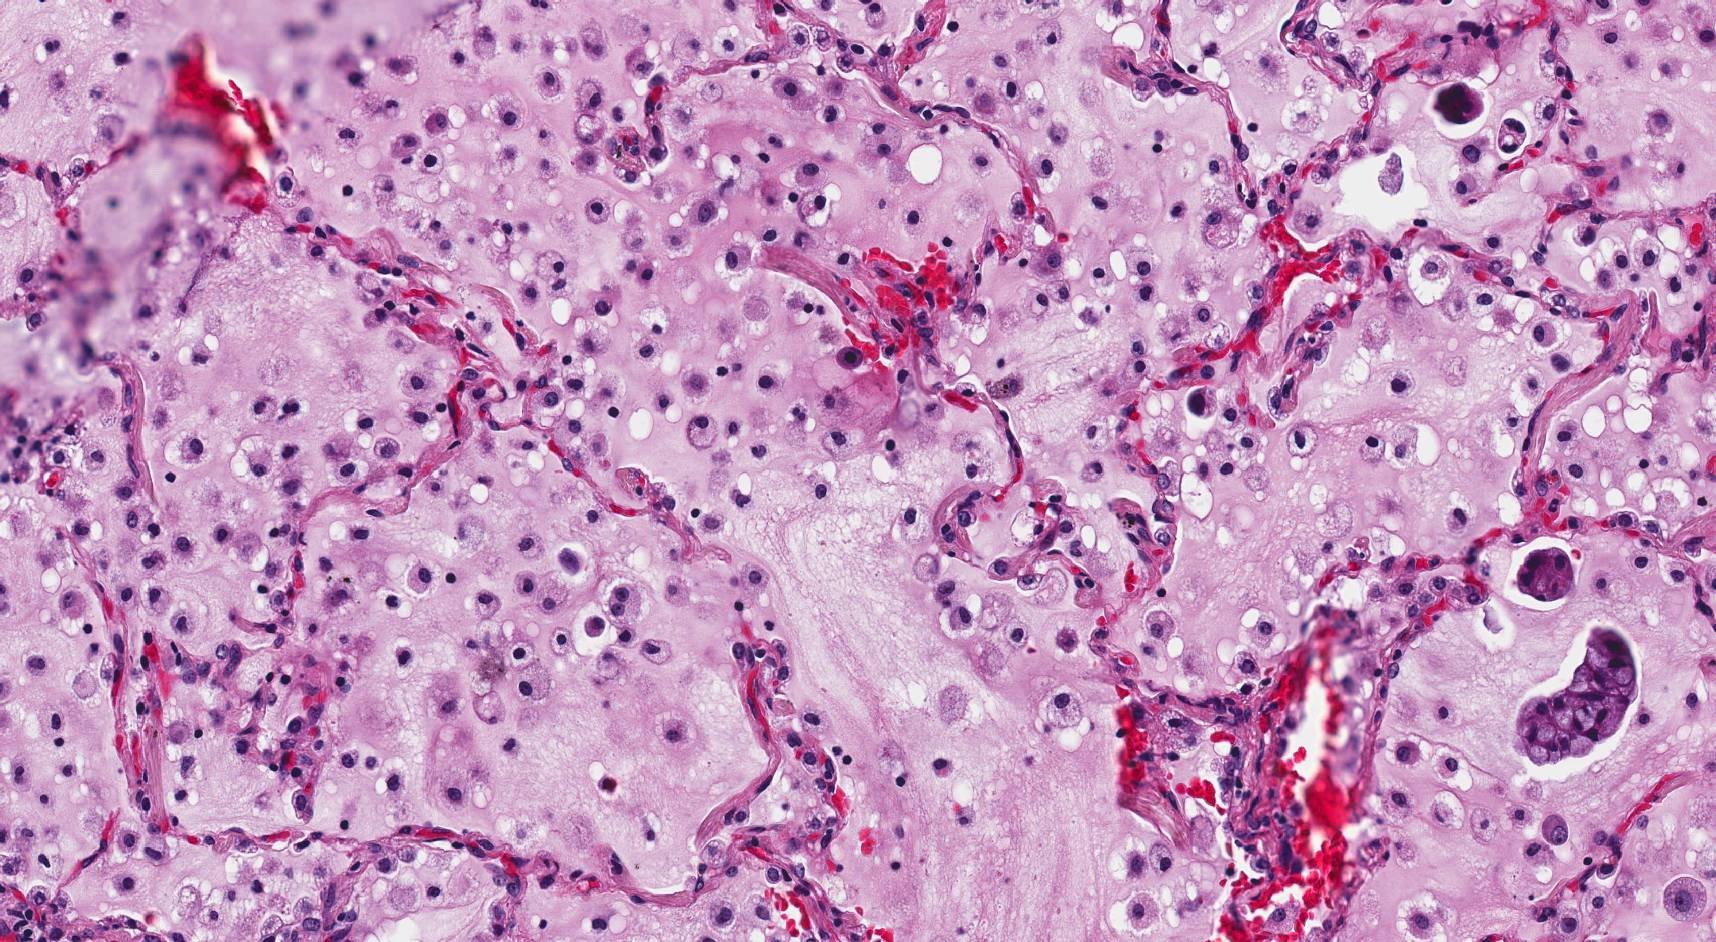stas: (1518, 627, 1640, 767), (1518, 546, 1574, 601)
